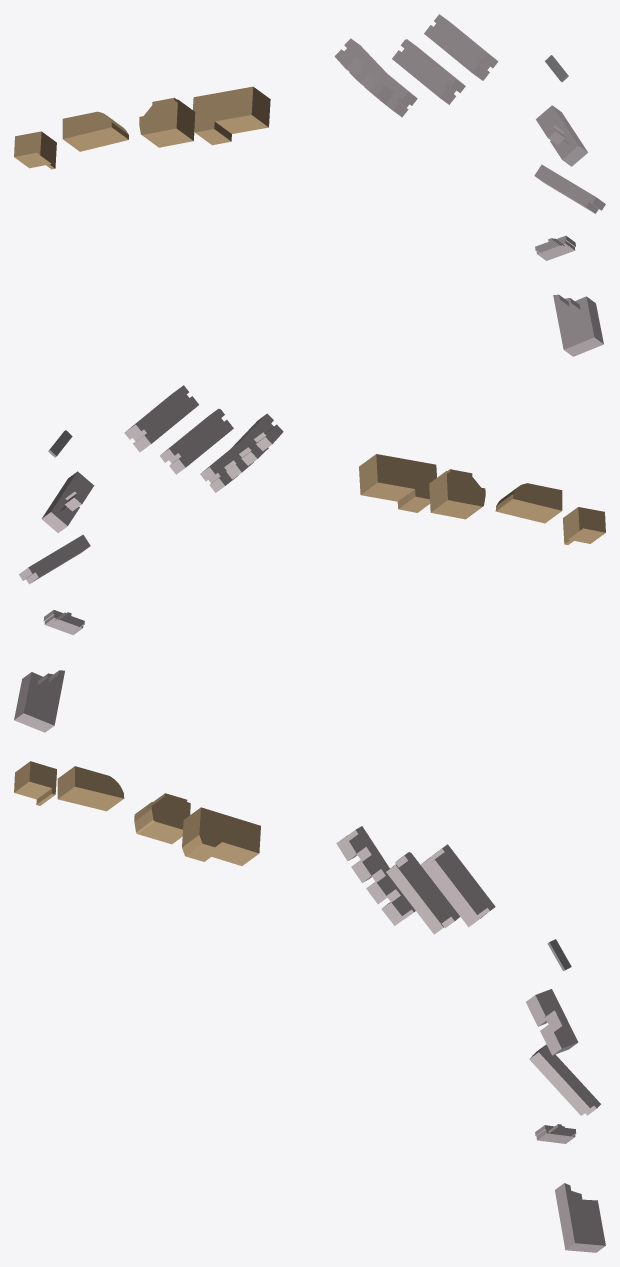
3 renders of one model, top to bottom at view 1: azimuth 30°, elevation 25°; view 2: azimuth 150°, elevation 25°; view 3: azimuth 330°, elevation 25°, orthographic.
Parts seen in each view (by area): view 1: 0_0_3_2_0; view 2: 0_0_3_2_0; view 3: 0_0_3_2_0.
Part boxes in pixels (x1,y1,x2,y2): 0_0_3_2_0: (14, 14, 605, 356); 0_0_3_2_0: (14, 385, 605, 732); 0_0_3_2_0: (14, 761, 605, 1252).
Size of the model in its own units: 520 by 316 by 33.9.
